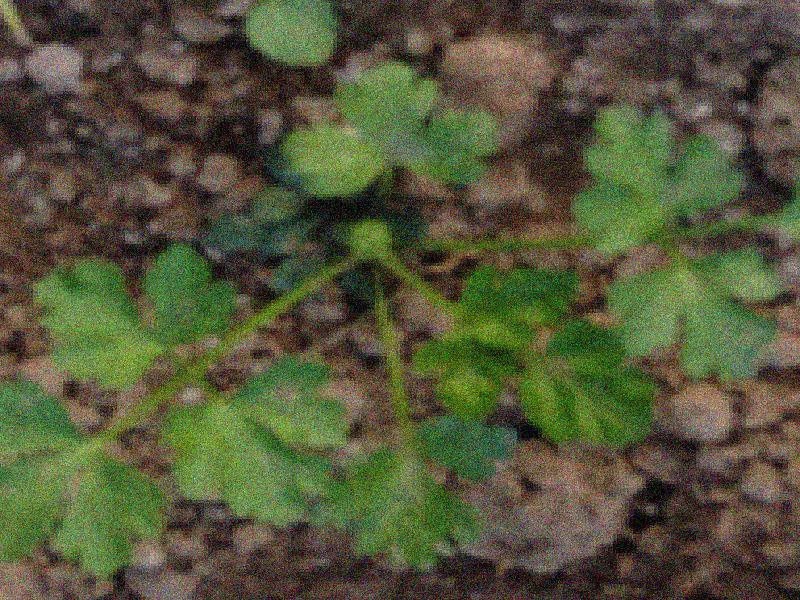radish: (34, 54, 715, 581)
